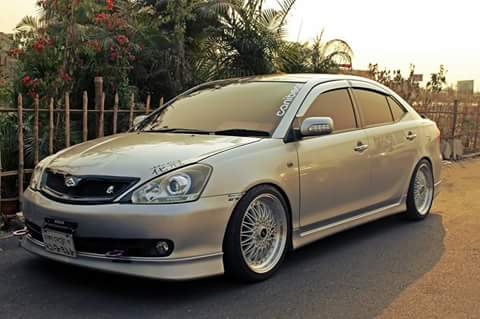registration_plate: (41, 228, 77, 259)
